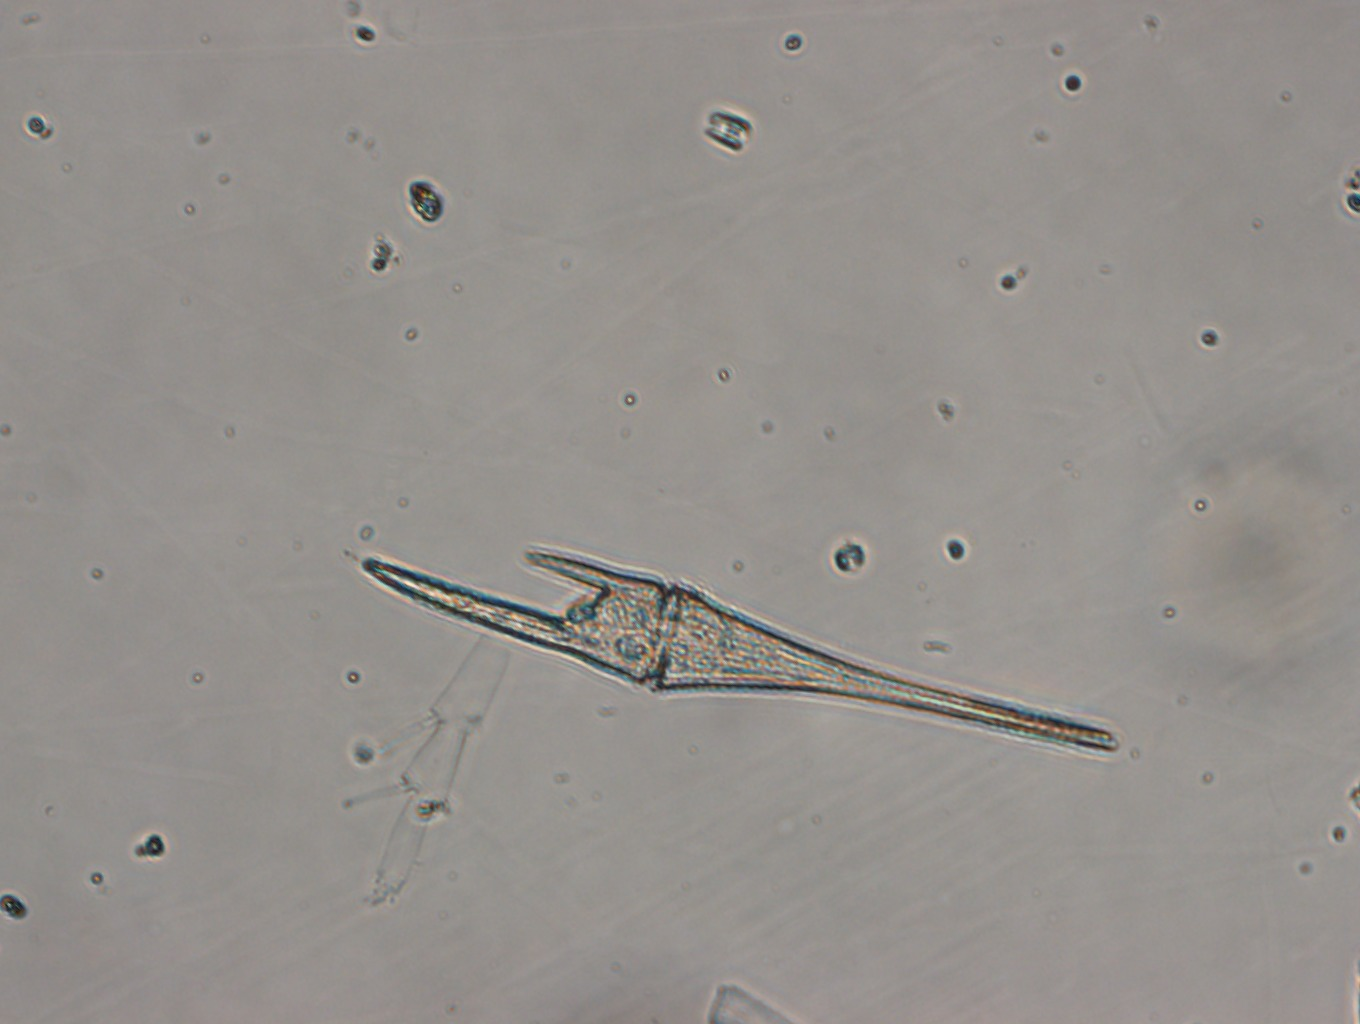ceratium furca: (360, 539, 1123, 756)
